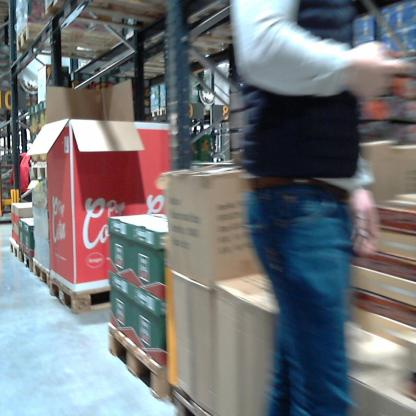pallet: (102, 321, 174, 405), (13, 21, 126, 64), (170, 1, 256, 43), (46, 2, 185, 27), (47, 273, 120, 315), (172, 386, 224, 414), (25, 156, 58, 184), (31, 260, 53, 288), (4, 234, 22, 264), (20, 247, 36, 273), (160, 105, 179, 118), (147, 109, 161, 120)
